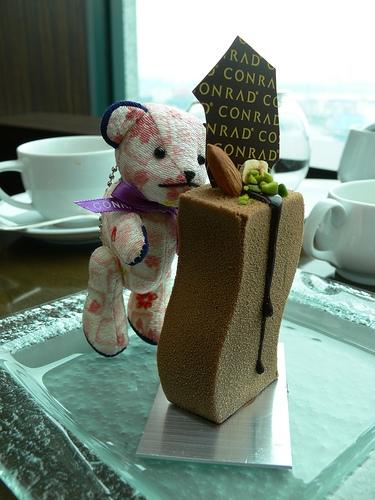almond: (206, 144, 243, 197)
